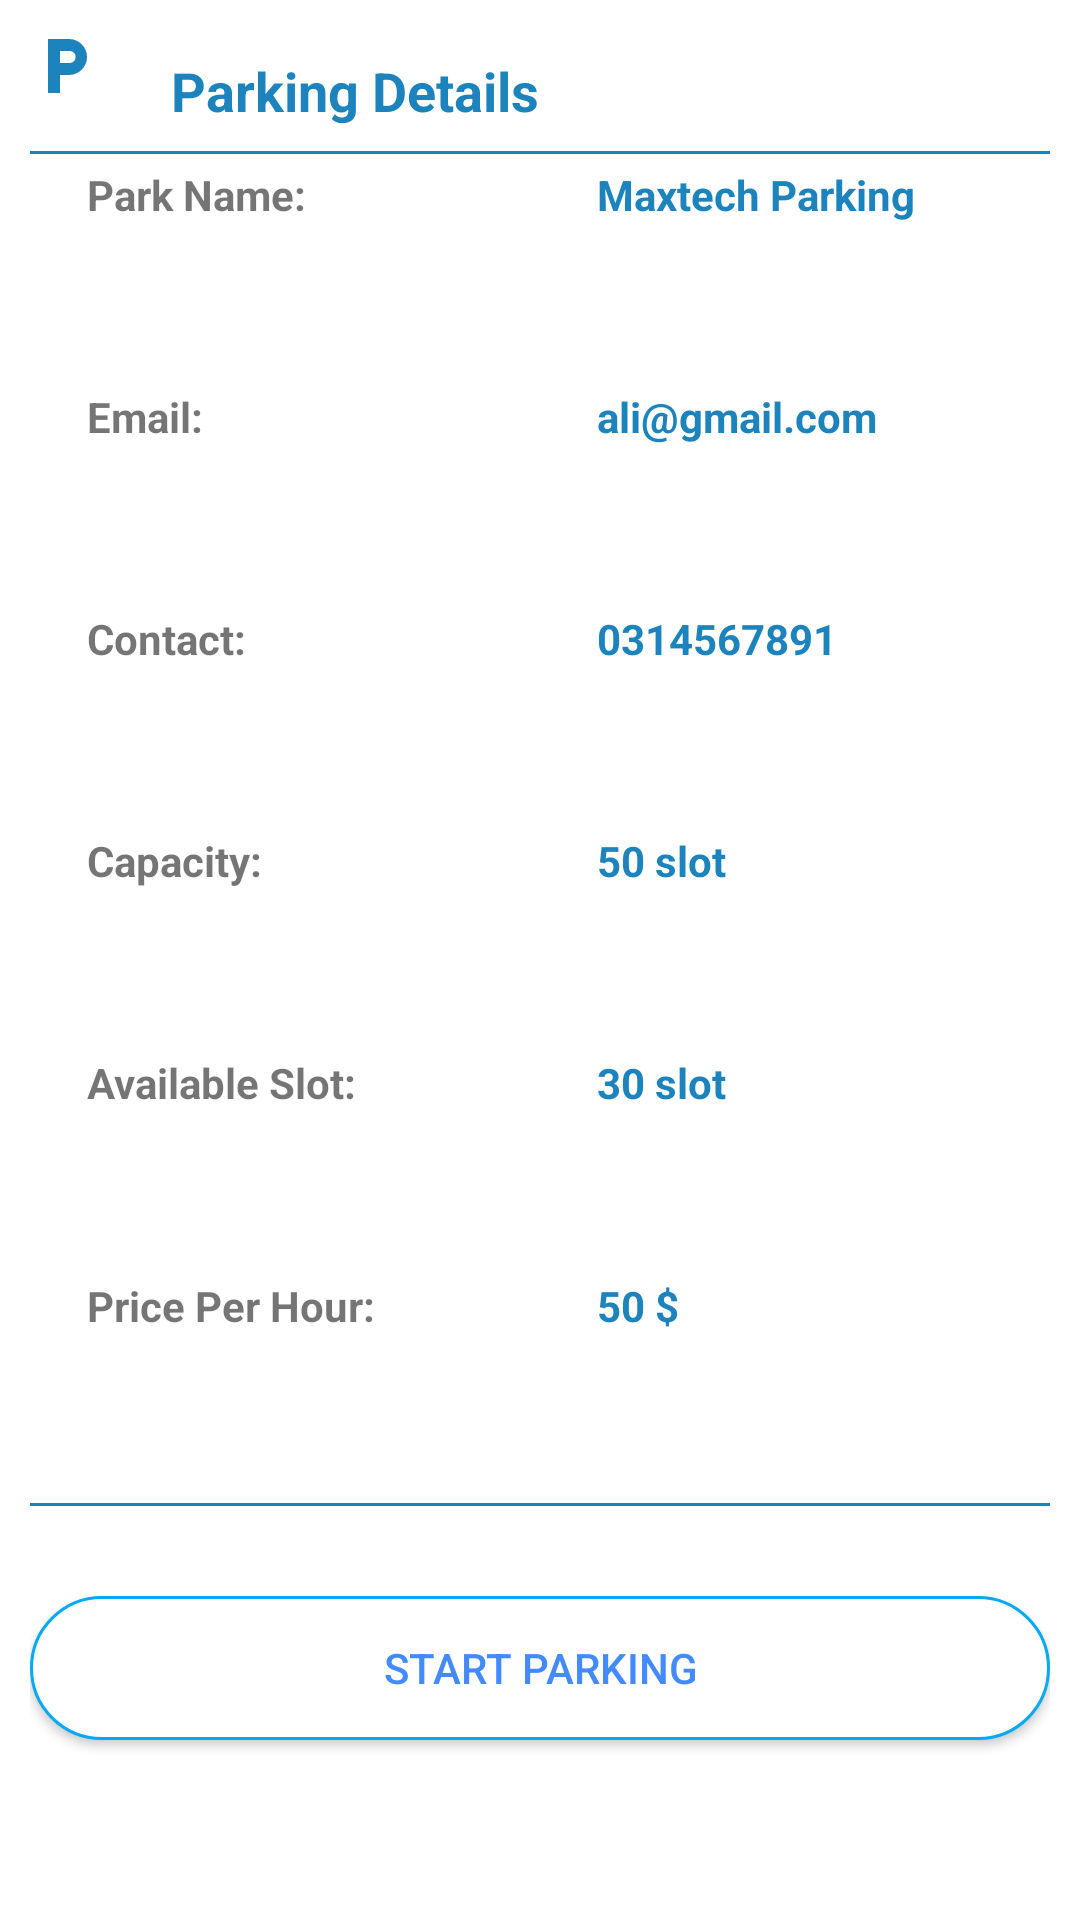

Named icons in this screenshot (1080w x 1920h) and their centers, [x,y]:
local parking: [67,66]
